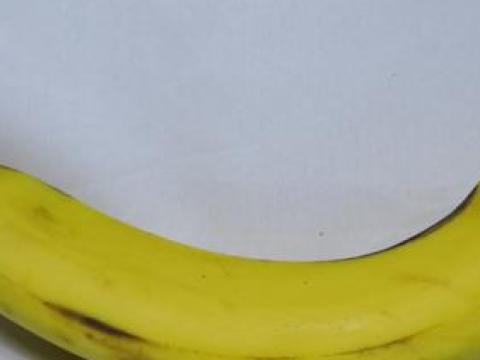freshripe: (0, 127, 479, 359)
